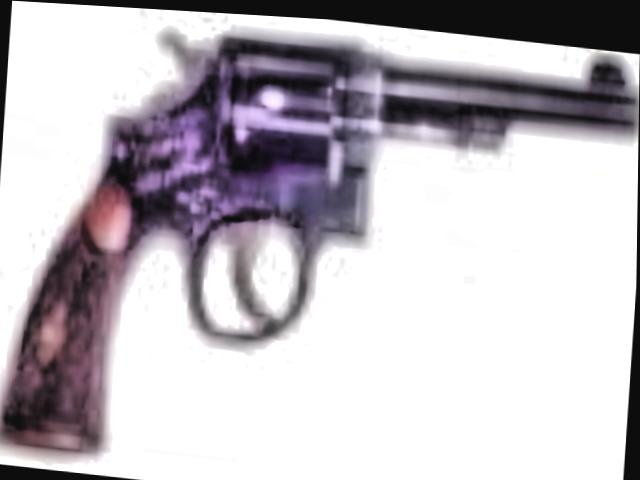pistol: (0, 0, 636, 480)
